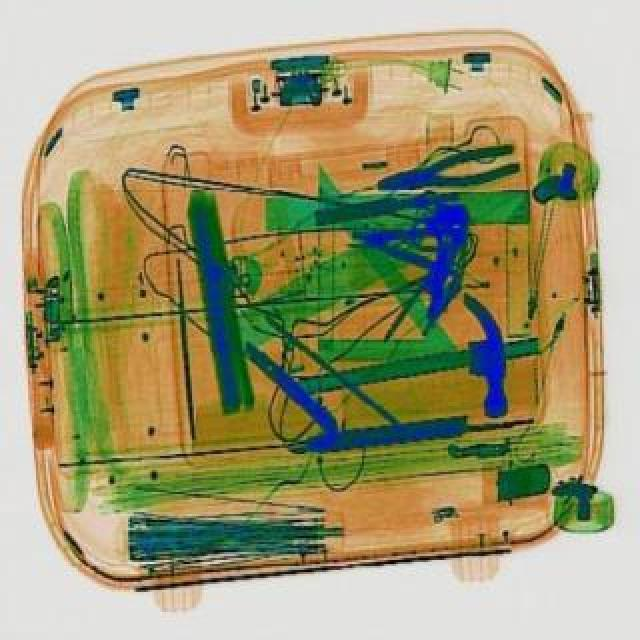wrench: (368, 138, 520, 200)
